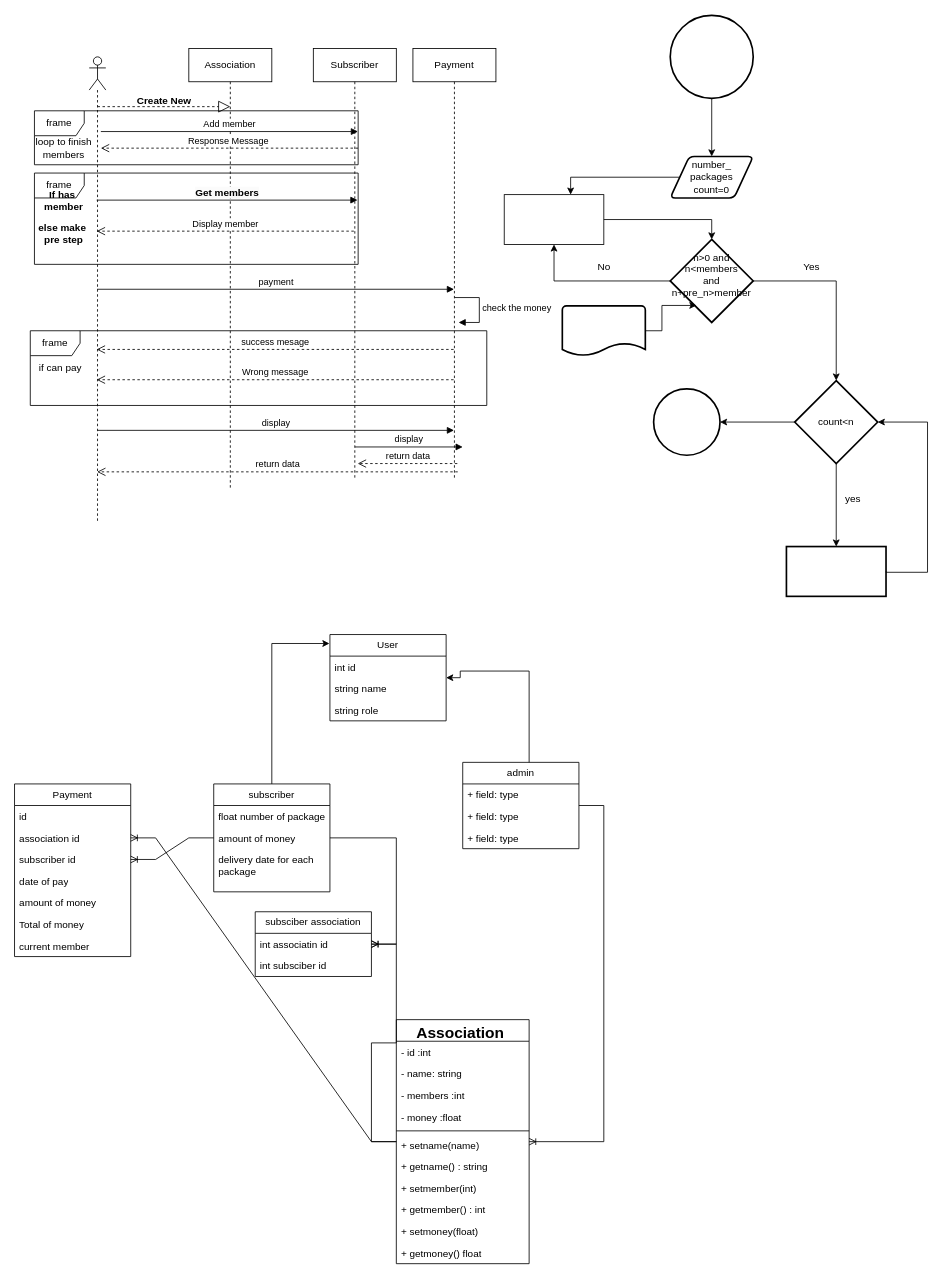
Image size: 949x1280. Some labels were removed from this diagram. Each missing label, with the centre of its shape:
"add new package with same information" belongs at point (835, 571).
"end packages" belongs at point (686, 422).
"enter n" belongs at point (553, 219).
"pre_n save in cach memory" belongs at point (603, 330).
"start" belongs at point (711, 56).
